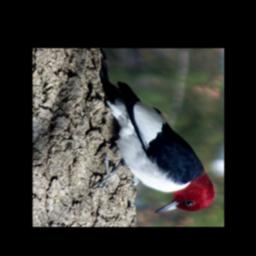Woodpecker: (87, 77, 216, 215)
